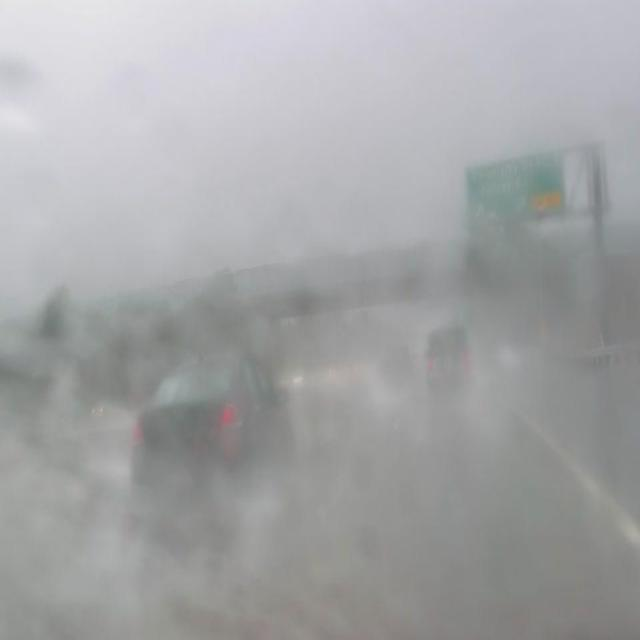Car: (128, 343, 288, 511), (425, 321, 475, 415)
